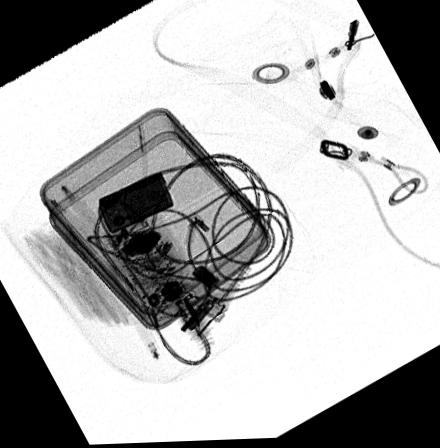Lighter: (98, 171, 175, 235)
